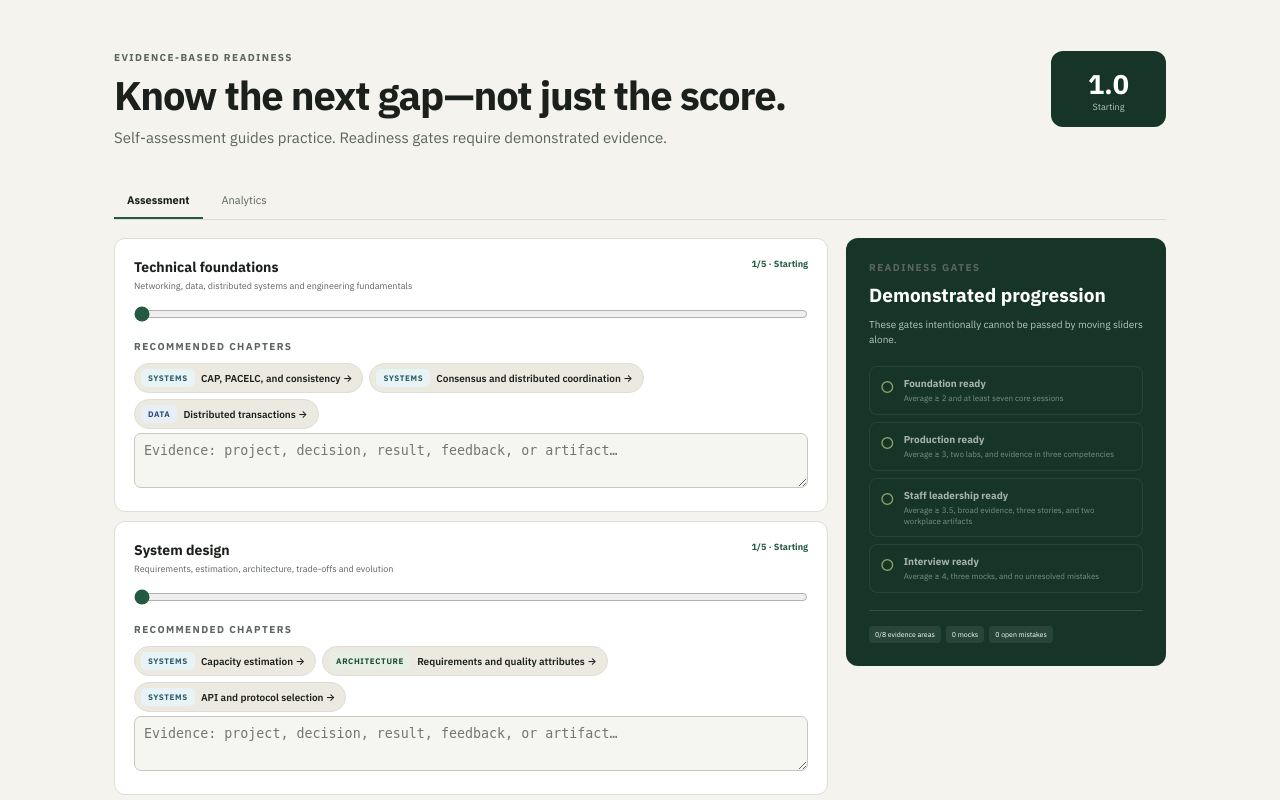
Test: AssessmentPage › switches to analytics tab
The image size is (1280, 800).
Click the tab "Analytics" at (244, 201), box [208,183,280,219]
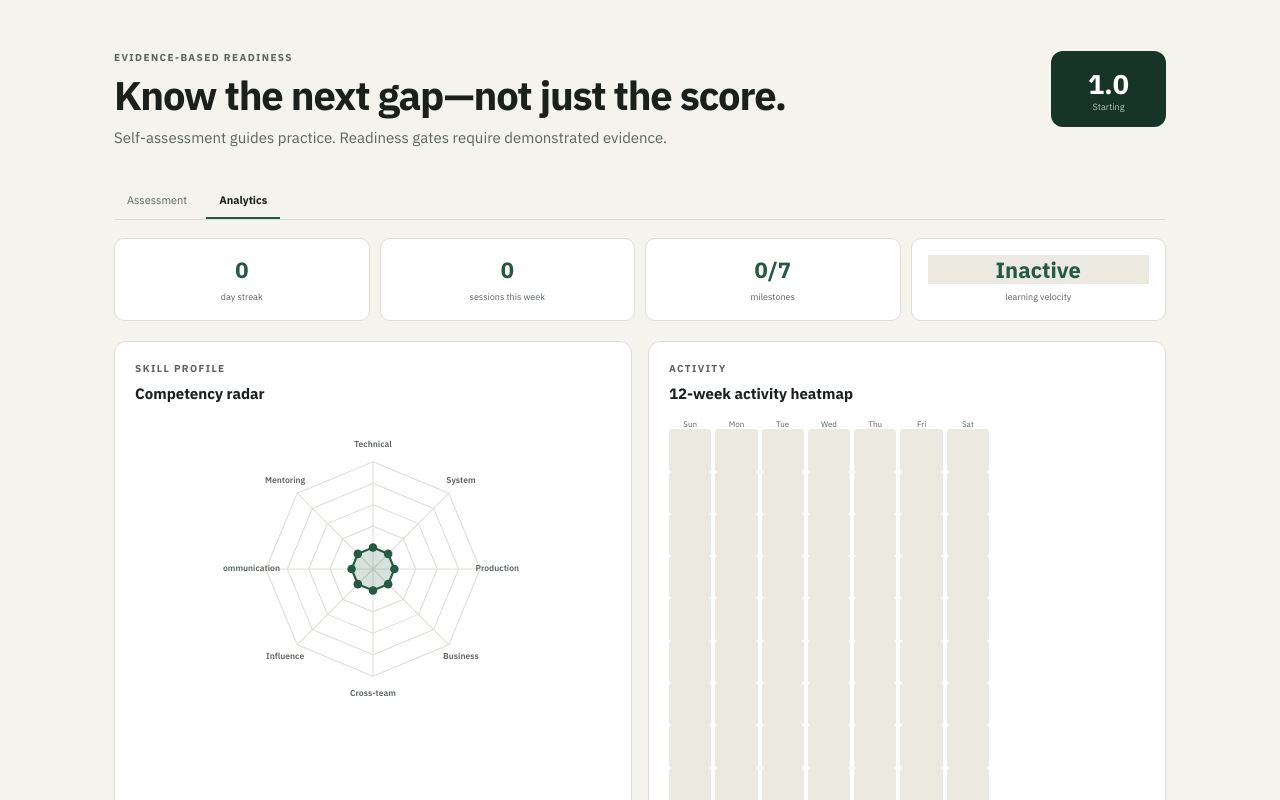
Check: the heading "Competency radar" is shown, box [135,384,265,403]
Check: the heading "12-week activity heatmap" is shown, box [669,384,853,403]
